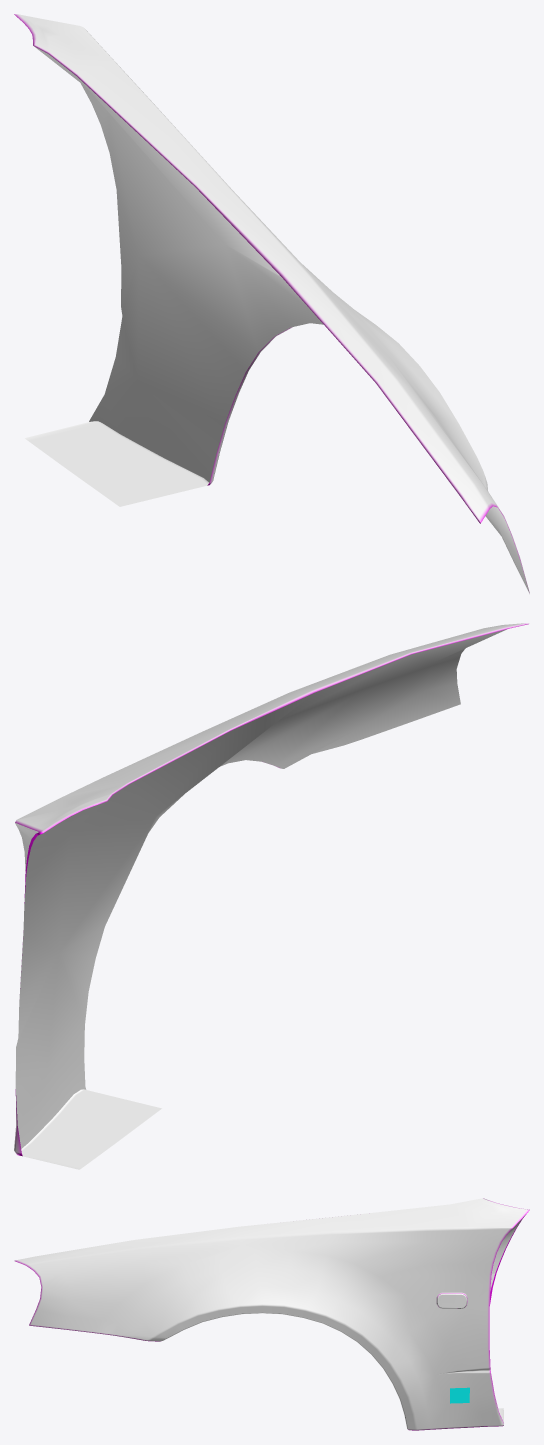
Rendered from Car_Nissan_SkylineGTRVspecR34_1999_FenderFL_SetA_AltA.fbx.
3 views of the same model, one above another, from view 1: azimuth 30°, elevation 25°; view 2: azimuth 150°, elevation 25°; view 3: azimuth 270°, elevation 25° (orthographic). The views are drawn at different scales.
Parts seen in each view (by area): view 1: FenderFL 6; view 2: FenderFL 6; view 3: FenderFL 6.
Boxes of the visible parts, x1,y1,x2,y2 form: FenderFL 6: (14, 14, 529, 593); FenderFL 6: (14, 623, 528, 1169); FenderFL 6: (14, 1198, 529, 1430).
Bounding box in the file's own units: 0.2093 × 0.5703 × 1.29.
